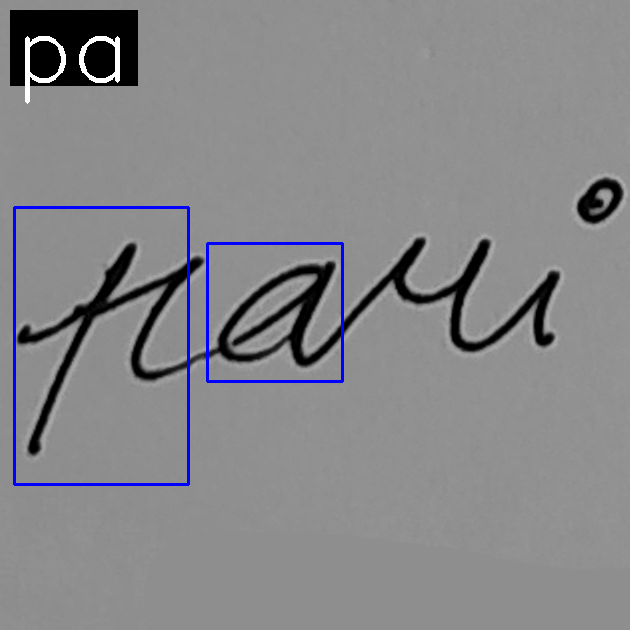a: (212, 255, 338, 374)
i: (524, 176, 626, 351)
p: (23, 240, 206, 460)
r: (361, 232, 493, 357)
